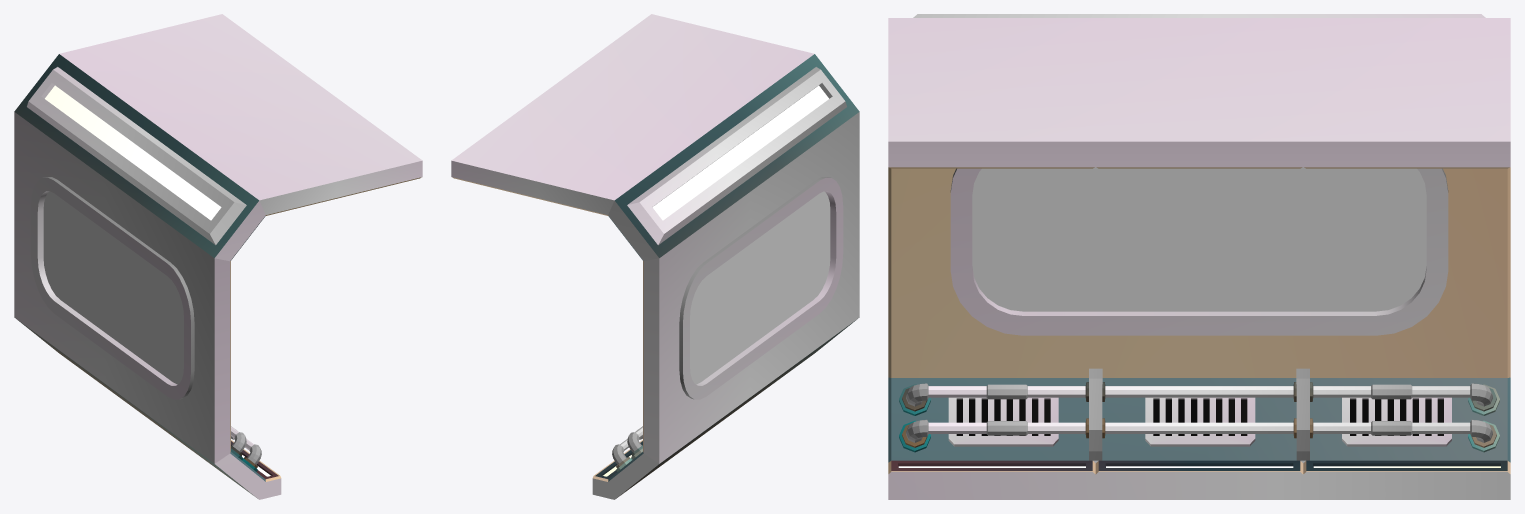
Rendered from C_Window_NoFloor.fbx.
3 renders of one model, left to right at view 1: azimuth 30°, elevation 25°; view 2: azimuth 150°, elevation 25°; view 3: azimuth 270°, elevation 25°, orthographic. The views are drawn at different scales.
Visible parts, largest first — view 1: C_Window_NoFloor; view 2: C_Window_NoFloor; view 3: C_Window_NoFloor.
Part boxes in pixels (x1,y1,x2,y2): C_Window_NoFloor: (14,14,422,499); C_Window_NoFloor: (451,14,859,499); C_Window_NoFloor: (888,14,1510,499).
Bounding box in the file's own units: 244 × 330 × 400.
